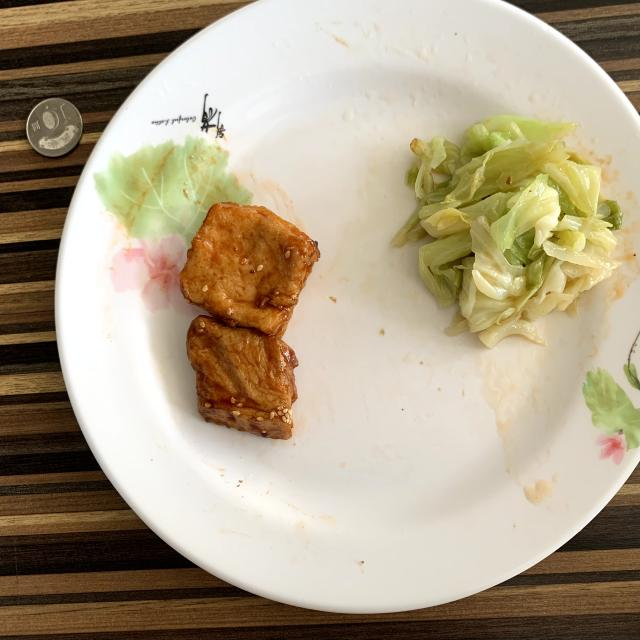cabbage: (392, 115, 622, 348)
coin: (26, 98, 82, 158)
creamy tofu: (180, 202, 320, 439)
